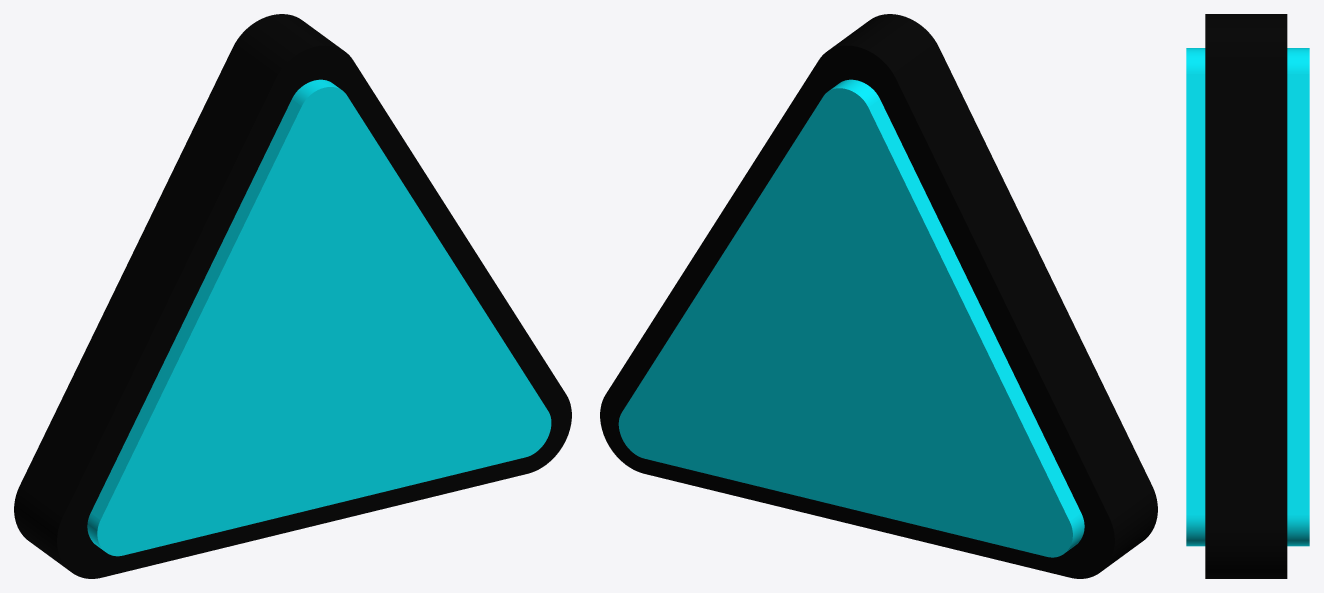
File: AMITER.fbx
The picture shows the model from 3 angles, left to right: view 1: azimuth 30°, elevation 25°; view 2: azimuth 150°, elevation 25°; view 3: azimuth 270°, elevation 25°; orthographic projection. The views are drawn at different scales.
Visible parts, largest first — view 1: Extrude, Sweep; view 2: Extrude, Sweep; view 3: Sweep, Extrude.
Boxes of the visible parts, <box> form: Extrude: <box>87,79,551,556</box>; Sweep: <box>14,14,571,578</box>; Extrude: <box>618,79,1084,557</box>; Sweep: <box>600,14,1157,578</box>; Sweep: <box>1205,14,1287,578</box>; Extrude: <box>1186,48,1309,546</box>.
Size of the model in its own units: 13.82 by 12.29 by 3.
